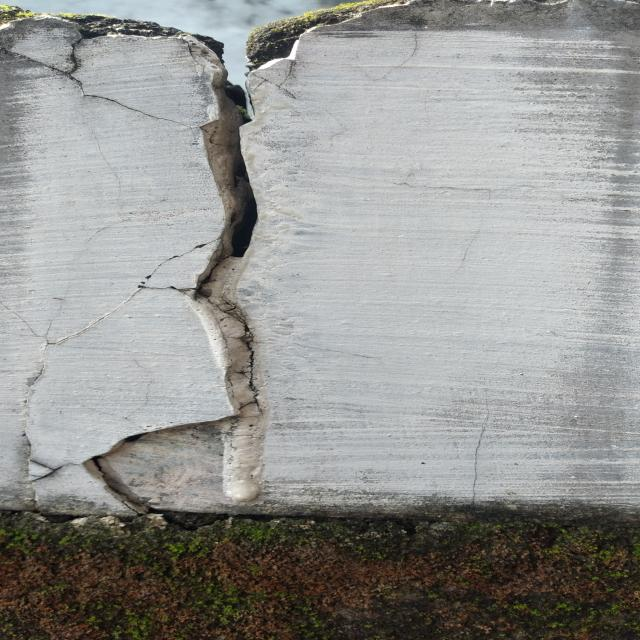Crack: (87, 57, 327, 510)
